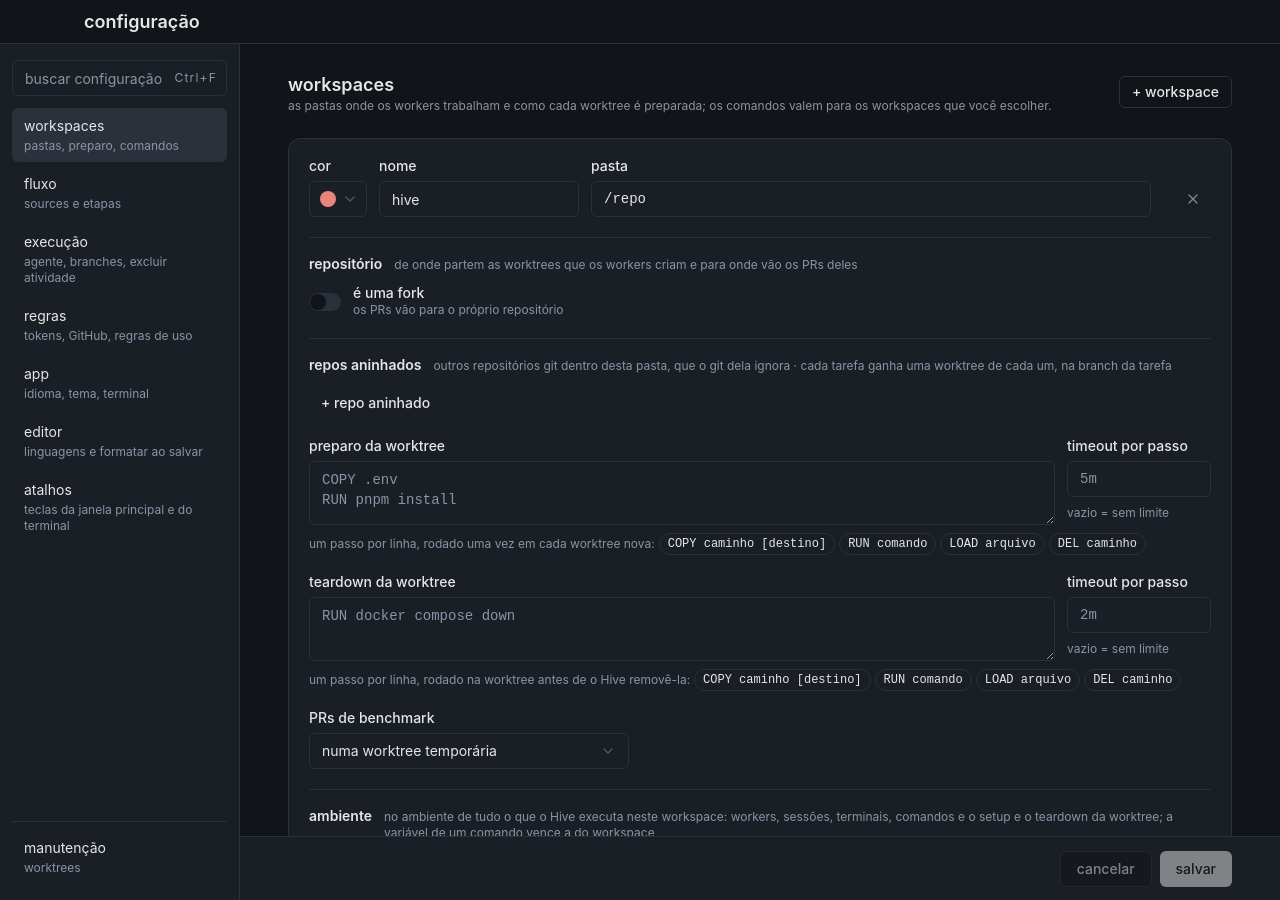
Test: entrar com GitHub switches to api mode: nothing is listed until a token exists, connect starts the device flow and shows the code, and usar gh CLI brings back e
Click the button "fluxo sources e etapas".
click(120, 193)  # box [12,166,227,220]
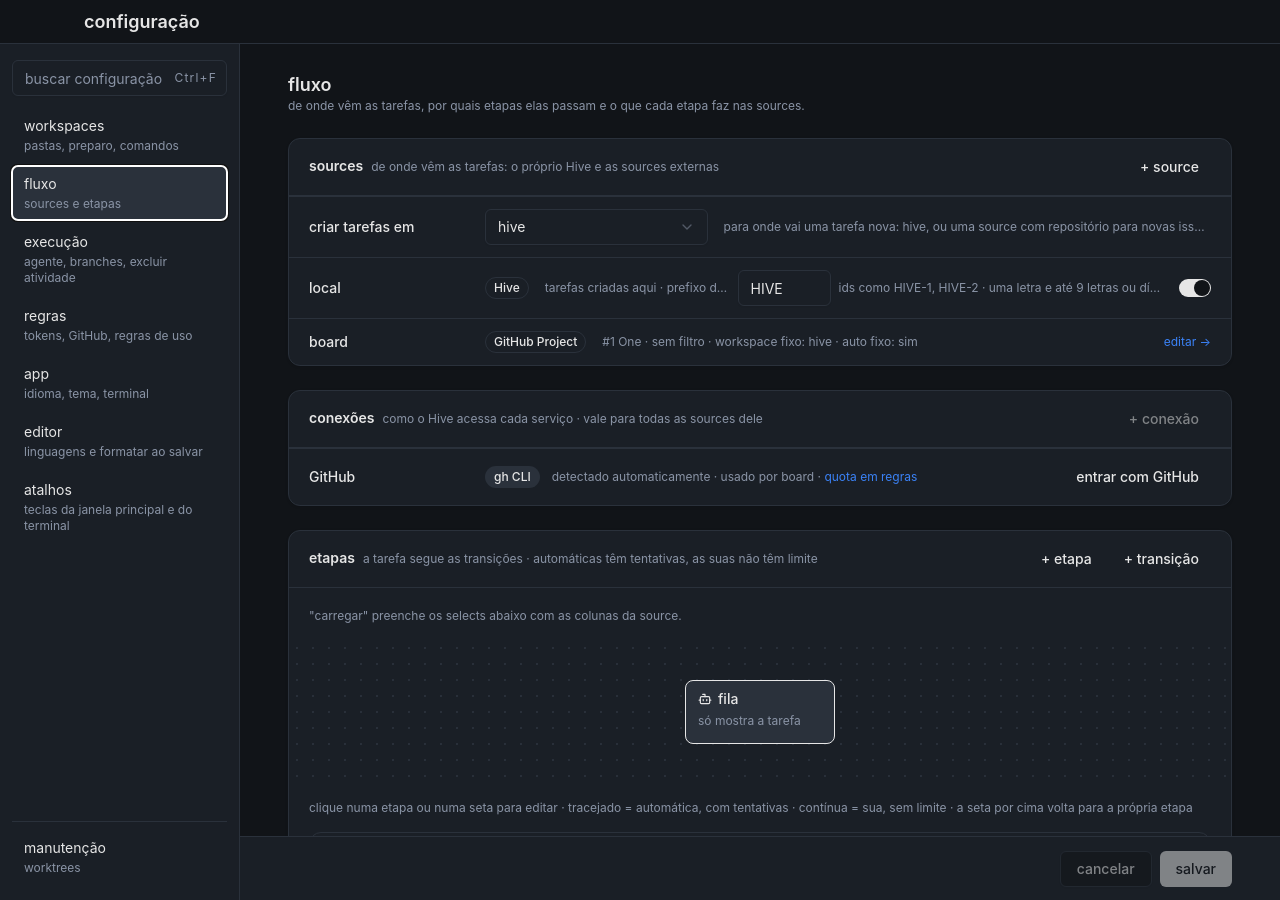
Click the button "entrar com GitHub".
click(1138, 477)  # box [1064,461,1211,493]
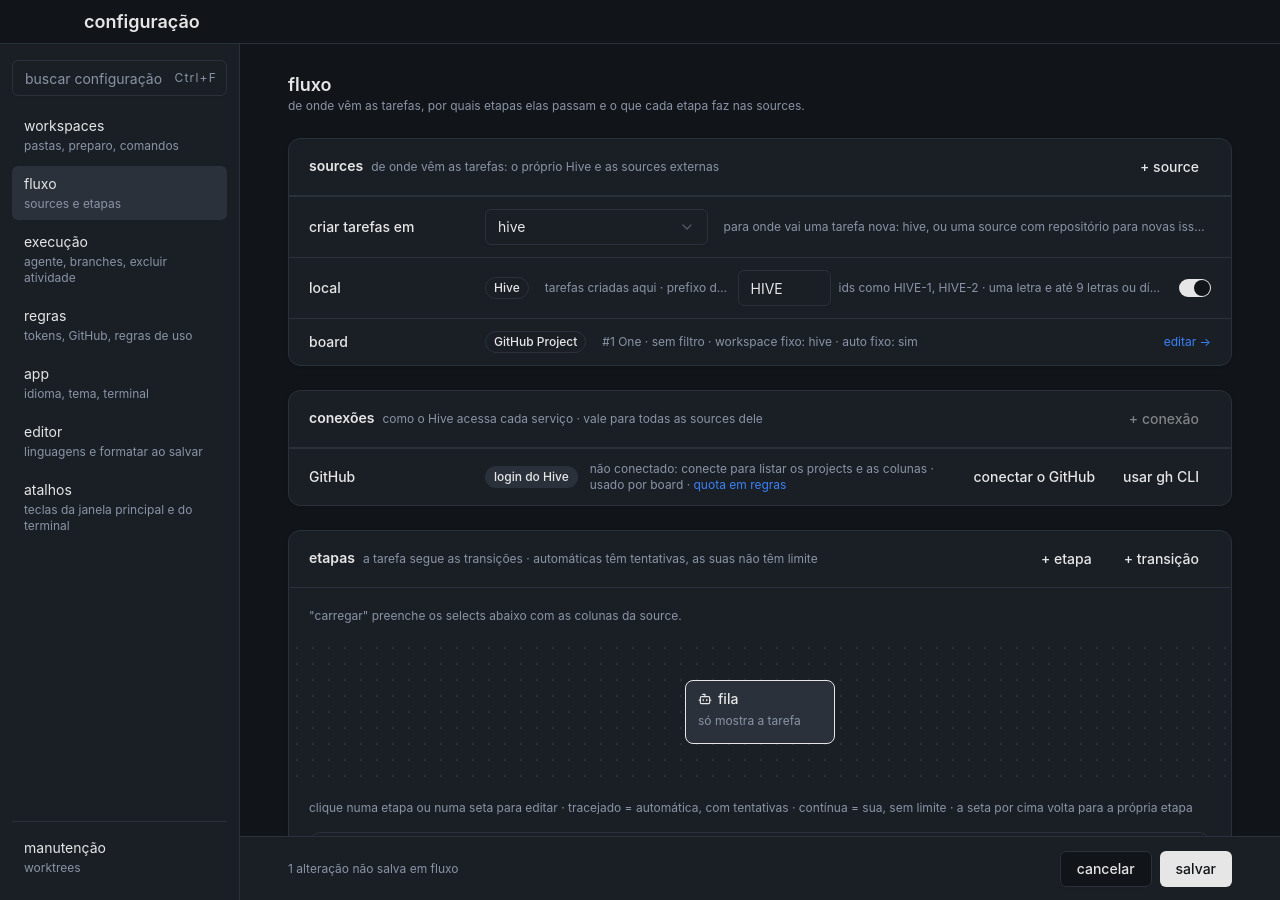
Click the button "conectar o GitHub".
click(1034, 477)  # box [962,461,1107,493]
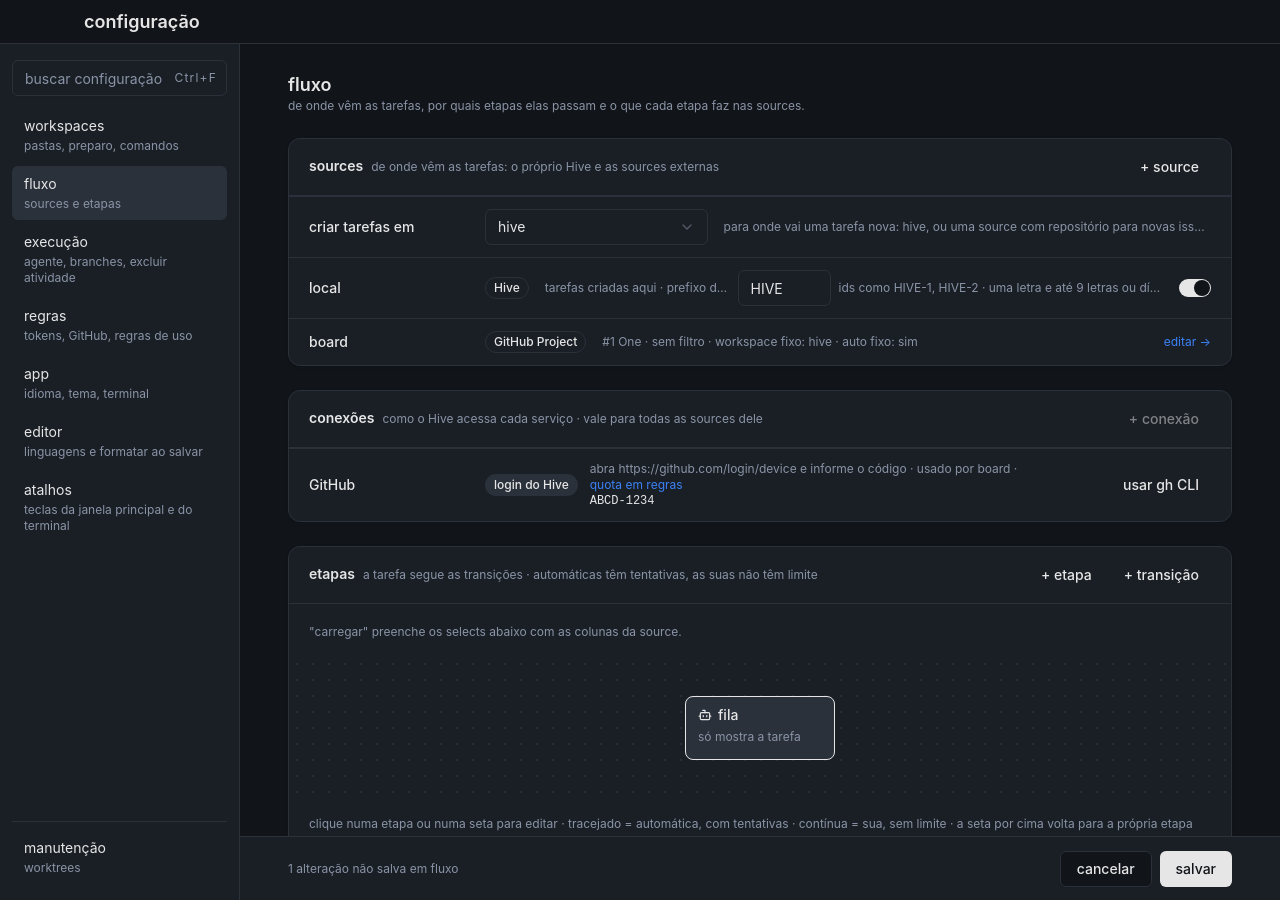
Expected: the text "ABCD-1234" is shown, [590,494,654,508]
Expected: the text "github.com/login/device" is shown, [590,461,1010,476]
Click the button "editar →".
click(1187, 342)  # box [1164,334,1211,350]
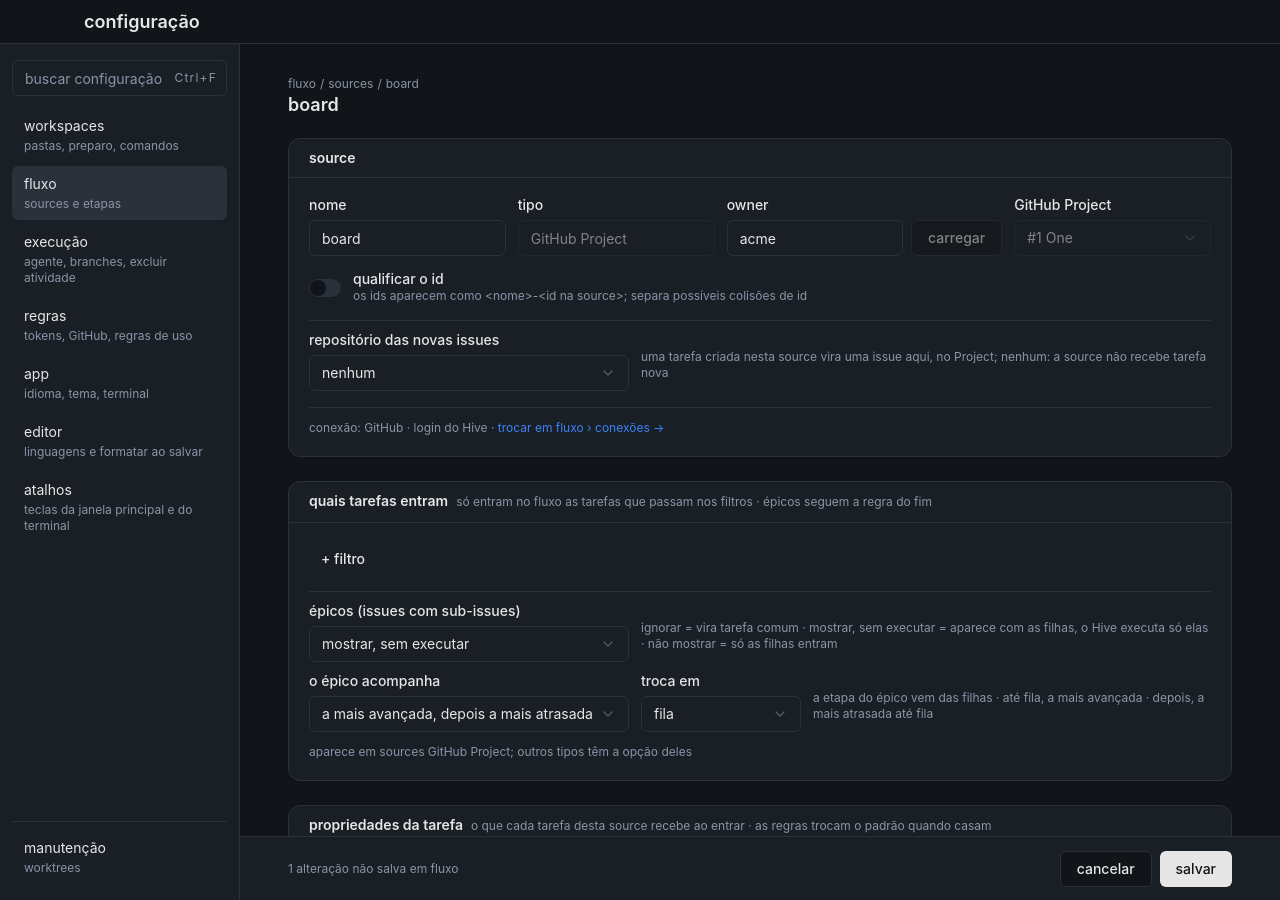
Expected: the dropdown named "GitHub Project" is disabled, [1014,220,1211,256]
Expected: the button "carregar" is disabled, [911,220,1002,256]
Click the button "sources".
click(351, 84)  # box [328,76,373,92]
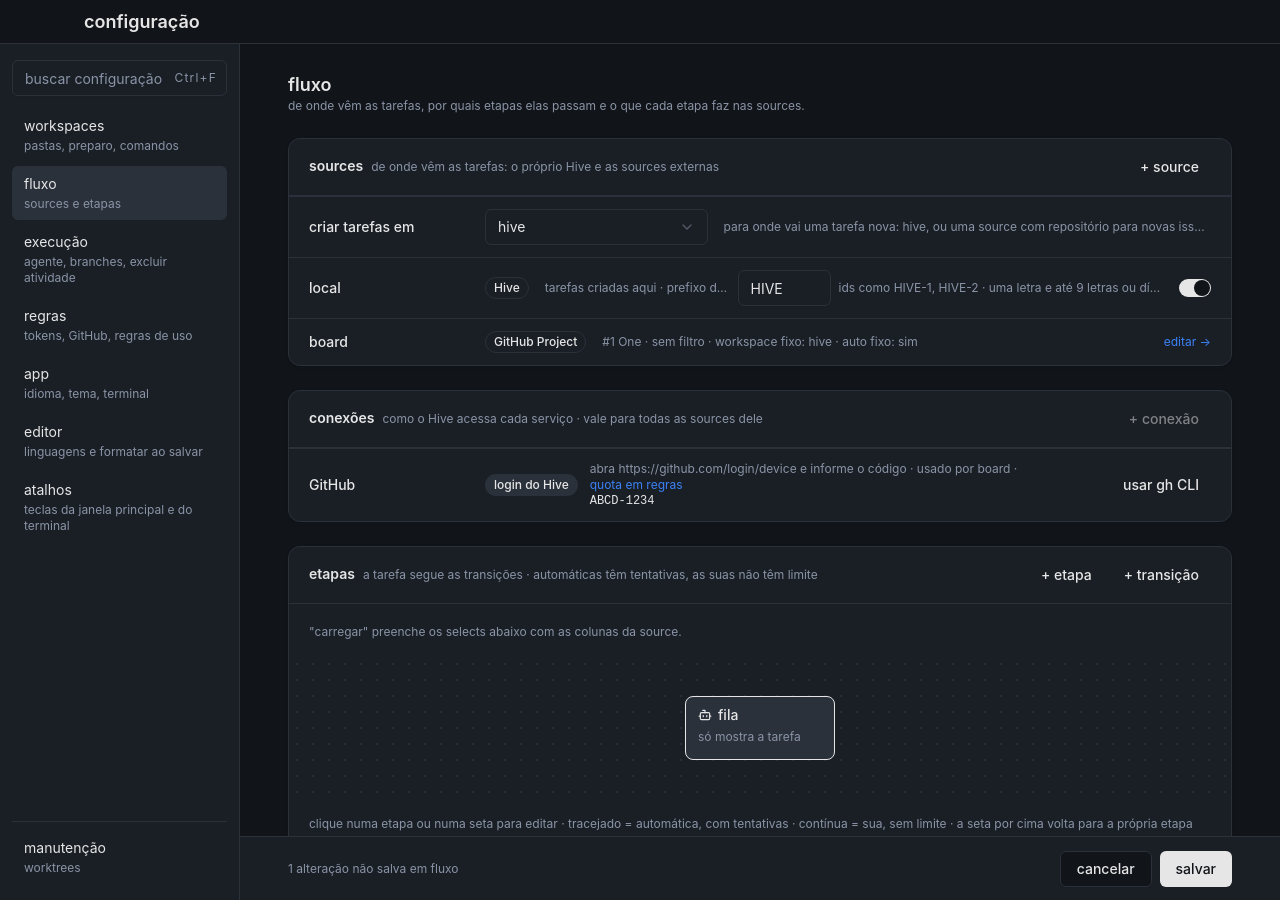
Click the button "usar gh CLI".
click(1161, 485)  # box [1111,469,1211,501]
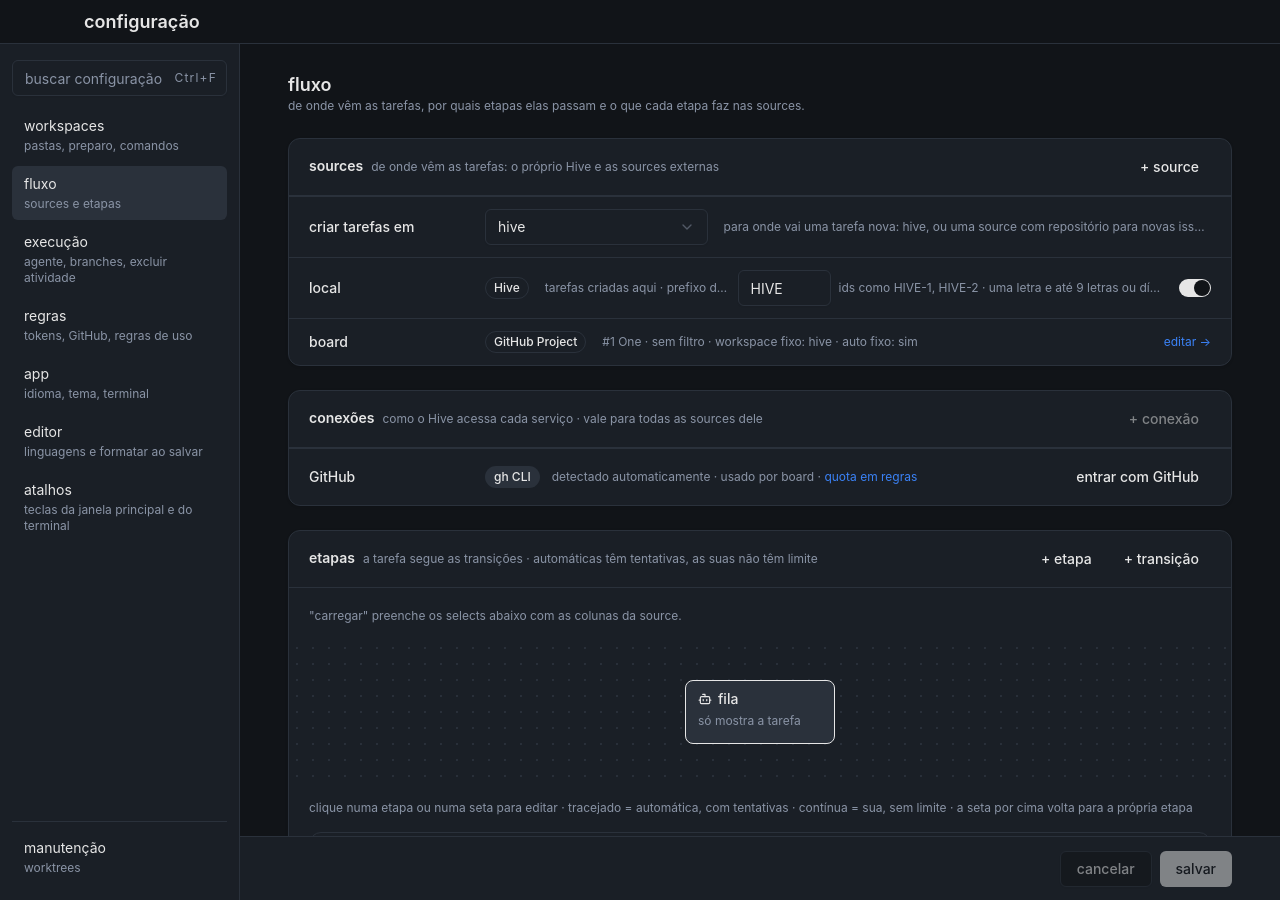
Expected: the button "entrar com GitHub" is shown, [1064,461,1211,493]
